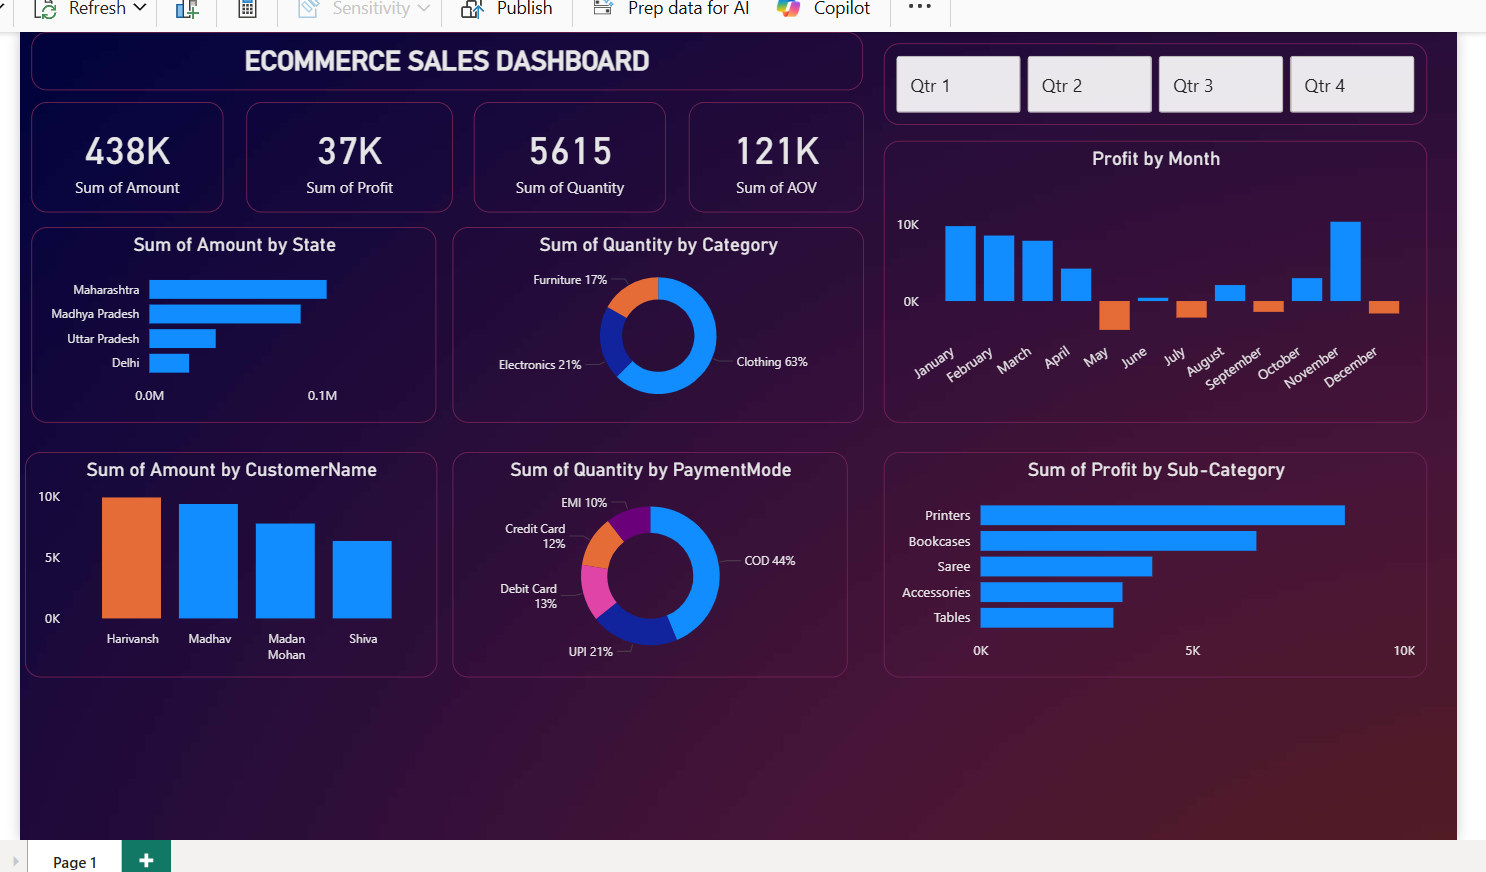

Layout of this report page (visuals, bound fields, positions):
{"tool":"powerbi","page":{"name":"Page 1","canvas":[1280,720],"ordinal":0},"visuals":[{"type":"textbox","box":[10,0,741,52],"z":0},{"type":"columnChart","title":"Profit by Month","fields":{"Category":["Orders.Order Date.Variation.Date Hierarchy.Month"],"Y":["Sum(Details.Profit)"]},"box":[769,97,484,251],"z":1000},{"type":"barChart","fields":{"Category":["Details.Sub-Category"],"Y":["Sum(Details.Profit)"]},"box":[769,374,484,201],"z":2000},{"type":"donutChart","fields":{"Y":["Sum(Details.Quantity)"],"Category":["Details.Category"]},"box":[385,174,366,174],"z":3000},{"type":"donutChart","fields":{"Y":["Sum(Details.Quantity)"],"Category":["Details.PaymentMode"]},"box":[385,374,352,201],"z":4000},{"type":"card","fields":{"Values":["Sum(Details.Amount)"]},"box":[10,62,171,98],"z":5000},{"type":"card","fields":{"Values":["Sum(Details.AOV)"]},"box":[595,62,156,98],"z":6000},{"type":"card","fields":{"Values":["Sum(Details.Quantity)"]},"box":[404,62,171,98],"z":7000},{"type":"card","fields":{"Values":["Sum(Details.Profit)"]},"box":[201,62,184,98],"z":8000},{"type":"barChart","fields":{"Category":["Orders.State"],"Y":["Sum(Details.Amount)"]},"box":[10,174,361,174],"z":9001},{"type":"columnChart","fields":{"Category":["Orders.CustomerName"],"Y":["Sum(Details.Amount)"]},"box":[4,374,367,201],"z":9002},{"type":"advancedSlicerVisual","fields":{"Values":["Orders.Order Date.Variation.Date Hierarchy.Quarter"]},"box":[769,10,484,73],"z":9003}]}

Visuals, with their boxes on the page's 1280x720 design canvas (x1, y1, x2, y2). These are canvas units, not pixel positions in the 1486x872 screenshot, which may show the page scaled, cropped or inside an application window:
textbox: (left=10, top=0, right=751, bottom=52)
"Profit by Month" columnChart: (left=769, top=97, right=1253, bottom=348)
barChart - Details.Sub-Category x Sum(Details.Profit): (left=769, top=374, right=1253, bottom=575)
donutChart - Sum(Details.Quantity) x Details.Category: (left=385, top=174, right=751, bottom=348)
donutChart - Sum(Details.Quantity) x Details.PaymentMode: (left=385, top=374, right=737, bottom=575)
card - Sum(Details.Amount): (left=10, top=62, right=181, bottom=160)
card - Sum(Details.AOV): (left=595, top=62, right=751, bottom=160)
card - Sum(Details.Quantity): (left=404, top=62, right=575, bottom=160)
card - Sum(Details.Profit): (left=201, top=62, right=385, bottom=160)
barChart - Orders.State x Sum(Details.Amount): (left=10, top=174, right=371, bottom=348)
columnChart - Orders.CustomerName x Sum(Details.Amount): (left=4, top=374, right=371, bottom=575)
advancedSlicerVisual - Orders.Order Date.Variation.Date Hierarchy.Quarter: (left=769, top=10, right=1253, bottom=83)
